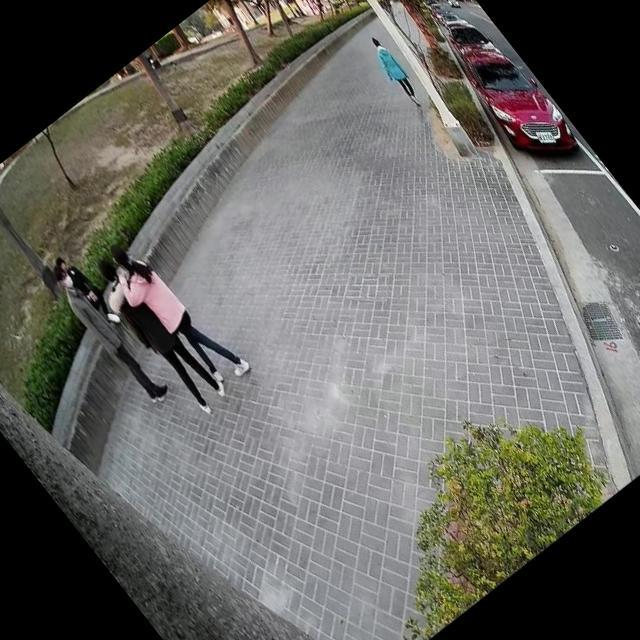person: (88, 218, 257, 410), (78, 242, 234, 424), (40, 252, 176, 412), (48, 243, 126, 335), (356, 26, 432, 114)
